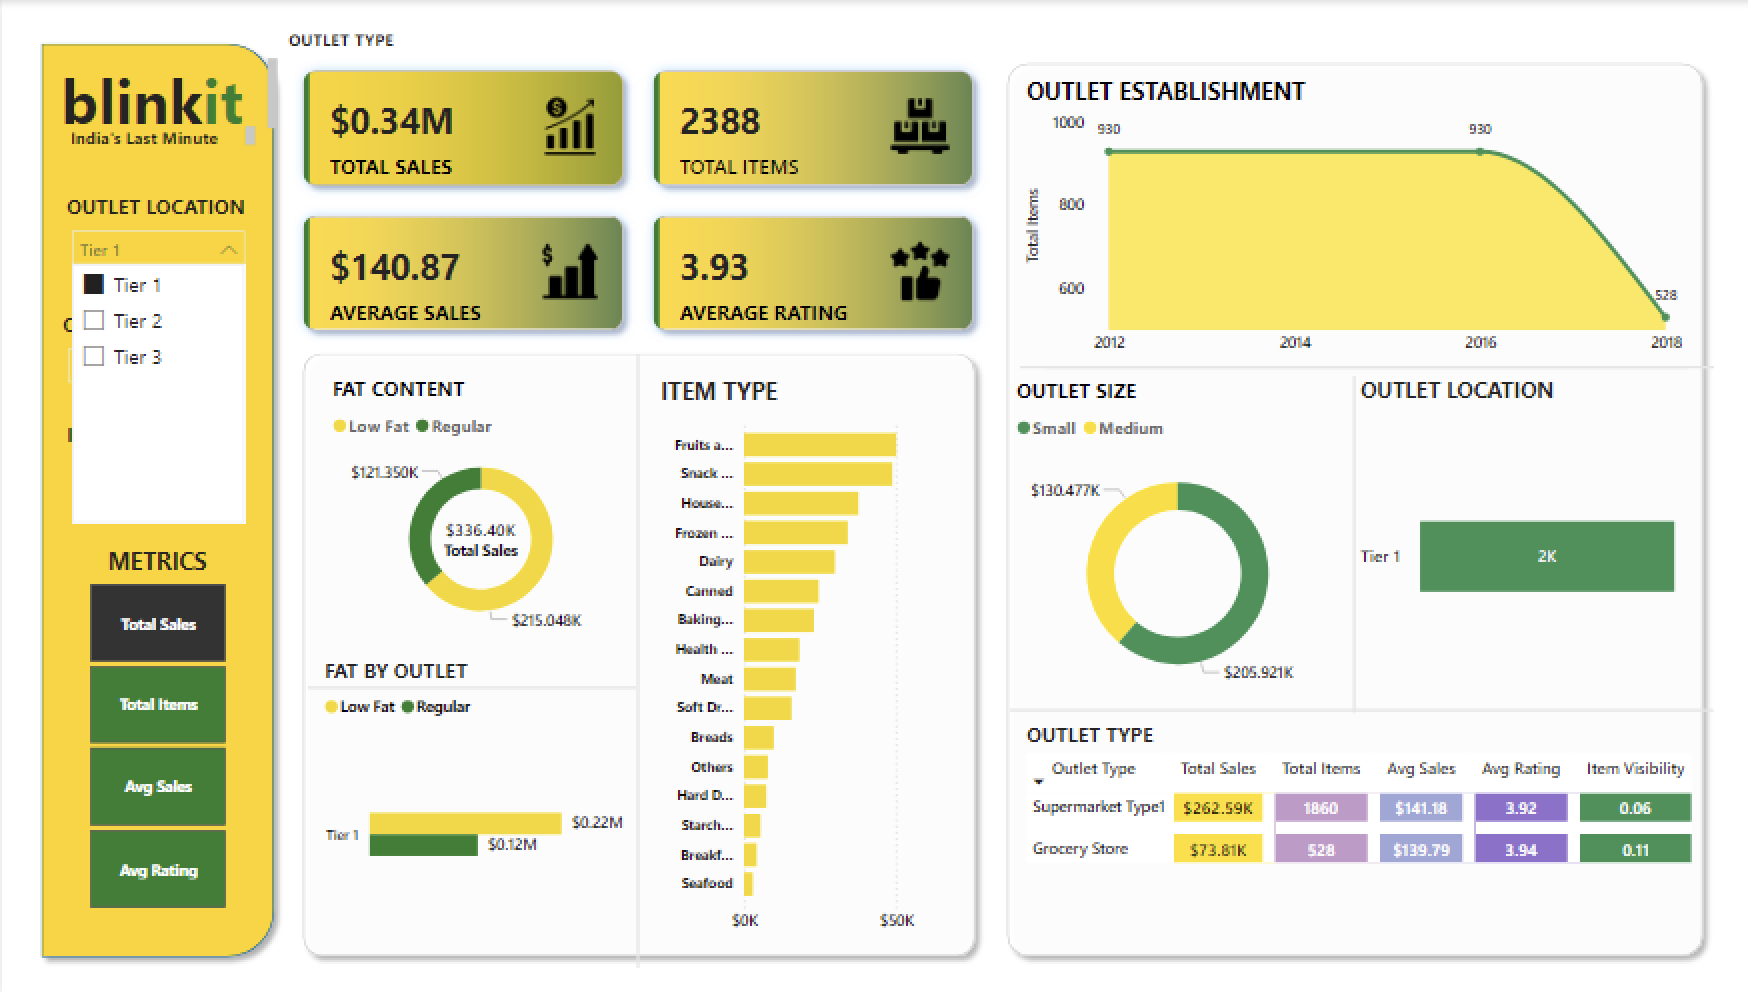

The page's visual inventory and layout, read from the dashboard file:
{"tool":"powerbi","page":{"name":"Dashboard","canvas":[1400,800],"ordinal":0},"visuals":[{"type":"shape","box":[22.7,25.2,204.3,749.2],"z":0},{"type":"textbox","box":[22.4,41.6,203.2,70.4],"z":1000},{"type":"textbox","box":[49.6,96,158.4,30.4],"z":2000},{"type":"cardVisual","title":"OUTLET TYPE","fields":{"Data":["BlinkIT Grocery Data.Total Sales","BlinkIT Grocery Data.Total Items","BlinkIT Grocery Data.Avg Sales","BlinkIT Grocery Data.Avg Rating"]},"box":[224.5,22.8,570.7,260.6],"z":3000},{"type":"shape","box":[232.1,273.9,555.4,500.3],"z":4000},{"type":"donutChart","title":"FAT CONTENT","fields":{"Y":["BlinkIT Grocery Data.Avg Rating"],"Category":["BlinkIT Grocery Data.Item Fat Content"]},"box":[259.2,299.2,248,214.4],"z":5000},{"type":"slicer","title":"METRICS","fields":{"Values":["Metrics.Metrics"]},"box":[44.8,435.2,158.4,297.6],"z":6000},{"type":"cardVisual","fields":{"Data":["BlinkIT Grocery Data.Total Sales"]},"box":[324.8,382.4,116.8,99.2],"z":7000},{"type":"clusteredBarChart","title":"FAT BY OUTLET","fields":{"Y":["BlinkIT Grocery Data.Avg Rating"],"Series":["BlinkIT Grocery Data.Item Fat Content"],"Category":["BlinkIT Grocery Data.Outlet Location Type"]},"box":[252.8,524.8,249.6,230.4],"z":8000},{"type":"shape","box":[245.4,545.9,262.5,9.5],"z":9000},{"type":"shape","box":[502.4,283.2,12.8,491.2],"z":10000},{"type":"clusteredBarChart","title":"ITEM TYPE","fields":{"Y":["BlinkIT Grocery Data.Avg Rating"],"Category":["BlinkIT Grocery Data.Item Type"]},"box":[521.6,299.2,236.8,456],"z":11000},{"type":"shape","box":[795.1,41.8,574.5,732.3],"z":12000},{"type":"lineChart","title":"OUTLET ESTABLISHMENT","fields":{"Category":["BlinkIT Grocery Data.Outlet Establishment Year"],"Y":["BlinkIT Grocery Data.Total Items"]},"box":[814.1,59,534.5,234],"z":13000},{"type":"shape","box":[814.1,283.4,534.5,20.9],"z":14000},{"type":"donutChart","title":"OUTLET SIZE","fields":{"Y":["BlinkIT Grocery Data.Total Sales"],"Category":["BlinkIT Grocery Data.Outlet Size"]},"box":[806.5,300.5,268.2,266.3],"z":15000},{"type":"shape","box":[835.1,283.4,534.5,20.9],"z":16000},{"type":"shape","box":[1074.7,300.5,13.3,270.1],"z":17000},{"type":"funnel","title":"OUTLET LOCATION","fields":{"Y":["BlinkIT Grocery Data.Total Items"],"Category":["BlinkIT Grocery Data.Outlet Location Type"]},"box":[1082.3,298.6,266.3,268.2],"z":18000},{"type":"pivotTable","title":"OUTLET TYPE","fields":{"Rows":["BlinkIT Grocery Data.Outlet Type"],"Values":["BlinkIT Grocery Data.Total Sales","BlinkIT Grocery Data.Total Items","BlinkIT Grocery Data.Avg Sales","BlinkIT Grocery Data.Avg Rating","Avg(BlinkIT Grocery Data.Item Visibility)"]},"box":[814.1,570.7,568.8,203.5],"z":19000},{"type":"shape","box":[806.5,566.8,563,3.8],"z":20000},{"type":"slicer","title":"OUTLET LOCATION","fields":{"Values":["BlinkIT Grocery Data.Outlet Location Type"]},"box":[45.7,154.1,157.9,70.4],"z":20001},{"type":"slicer","title":"OUTLET SIZE","fields":{"Values":["BlinkIT Grocery Data.Outlet Size"]},"box":[43.8,247.3,157.9,70.4],"z":20002},{"type":"slicer","title":"ITEM TYPE","fields":{"Values":["BlinkIT Grocery Data.Item Type"]},"box":[45.7,336.7,157.9,70.4],"z":20003}]}

Visuals, with their boxes in screenshot pixels (x1, y1, x2, y2), scaled from the page's 1400x800 canvas onto the 1748x992 screenshot:
shape: x1=28, y1=31, x2=283, y2=960
textbox: x1=28, y1=52, x2=282, y2=139
textbox: x1=62, y1=119, x2=260, y2=157
"OUTLET TYPE" cardVisual: x1=280, y1=28, x2=993, y2=351
shape: x1=290, y1=340, x2=983, y2=960
"FAT CONTENT" donutChart: x1=324, y1=371, x2=633, y2=637
"METRICS" slicer: x1=56, y1=540, x2=254, y2=909
cardVisual - BlinkIT Grocery Data.Total Sales: x1=406, y1=474, x2=551, y2=597
"FAT BY OUTLET" clusteredBarChart: x1=316, y1=651, x2=627, y2=936
shape: x1=306, y1=677, x2=634, y2=689
shape: x1=627, y1=351, x2=643, y2=960
"ITEM TYPE" clusteredBarChart: x1=651, y1=371, x2=947, y2=936
shape: x1=993, y1=52, x2=1710, y2=960
"OUTLET ESTABLISHMENT" lineChart: x1=1016, y1=73, x2=1684, y2=363
shape: x1=1016, y1=351, x2=1684, y2=377
"OUTLET SIZE" donutChart: x1=1007, y1=373, x2=1342, y2=703
shape: x1=1043, y1=351, x2=1710, y2=377
shape: x1=1342, y1=373, x2=1358, y2=708
"OUTLET LOCATION" funnel: x1=1351, y1=370, x2=1684, y2=703
"OUTLET TYPE" pivotTable: x1=1016, y1=708, x2=1727, y2=960
shape: x1=1007, y1=703, x2=1710, y2=708
"OUTLET LOCATION" slicer: x1=57, y1=191, x2=254, y2=278
"OUTLET SIZE" slicer: x1=55, y1=307, x2=252, y2=394
"ITEM TYPE" slicer: x1=57, y1=418, x2=254, y2=505
